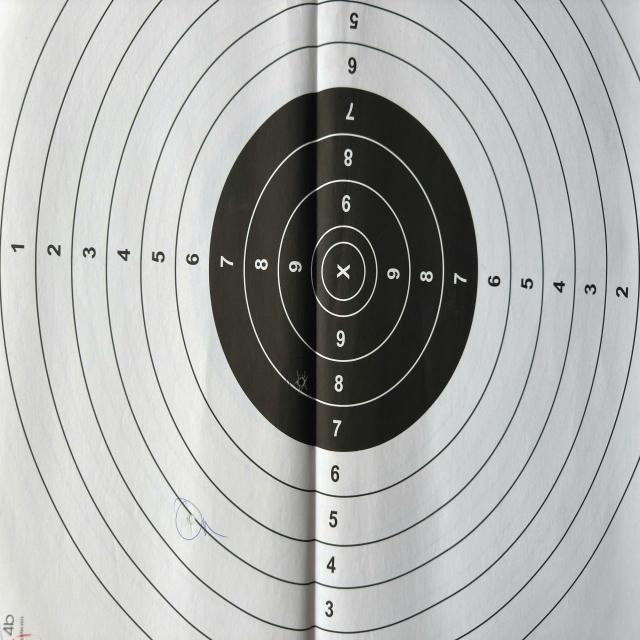bullet: (296, 376, 308, 388), (188, 513, 195, 529)
